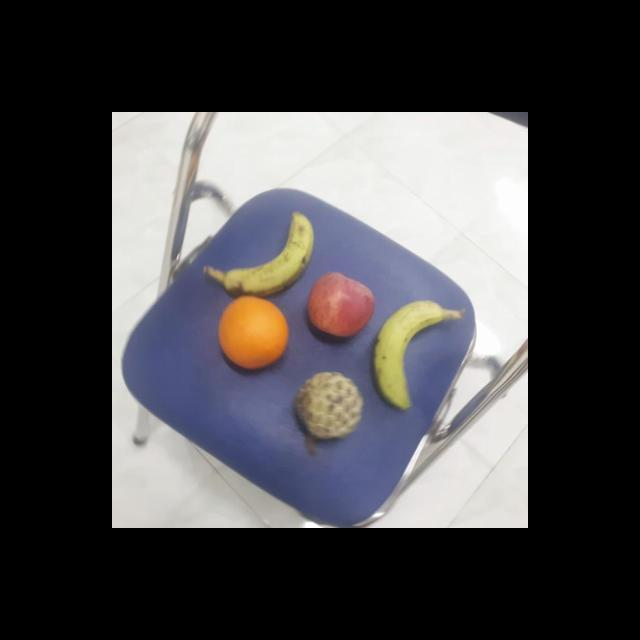Sakya fruit: (296, 370, 364, 440)
apple: (304, 272, 378, 337)
banana: (216, 208, 320, 296), (372, 298, 445, 411)
orange: (215, 292, 293, 370)
